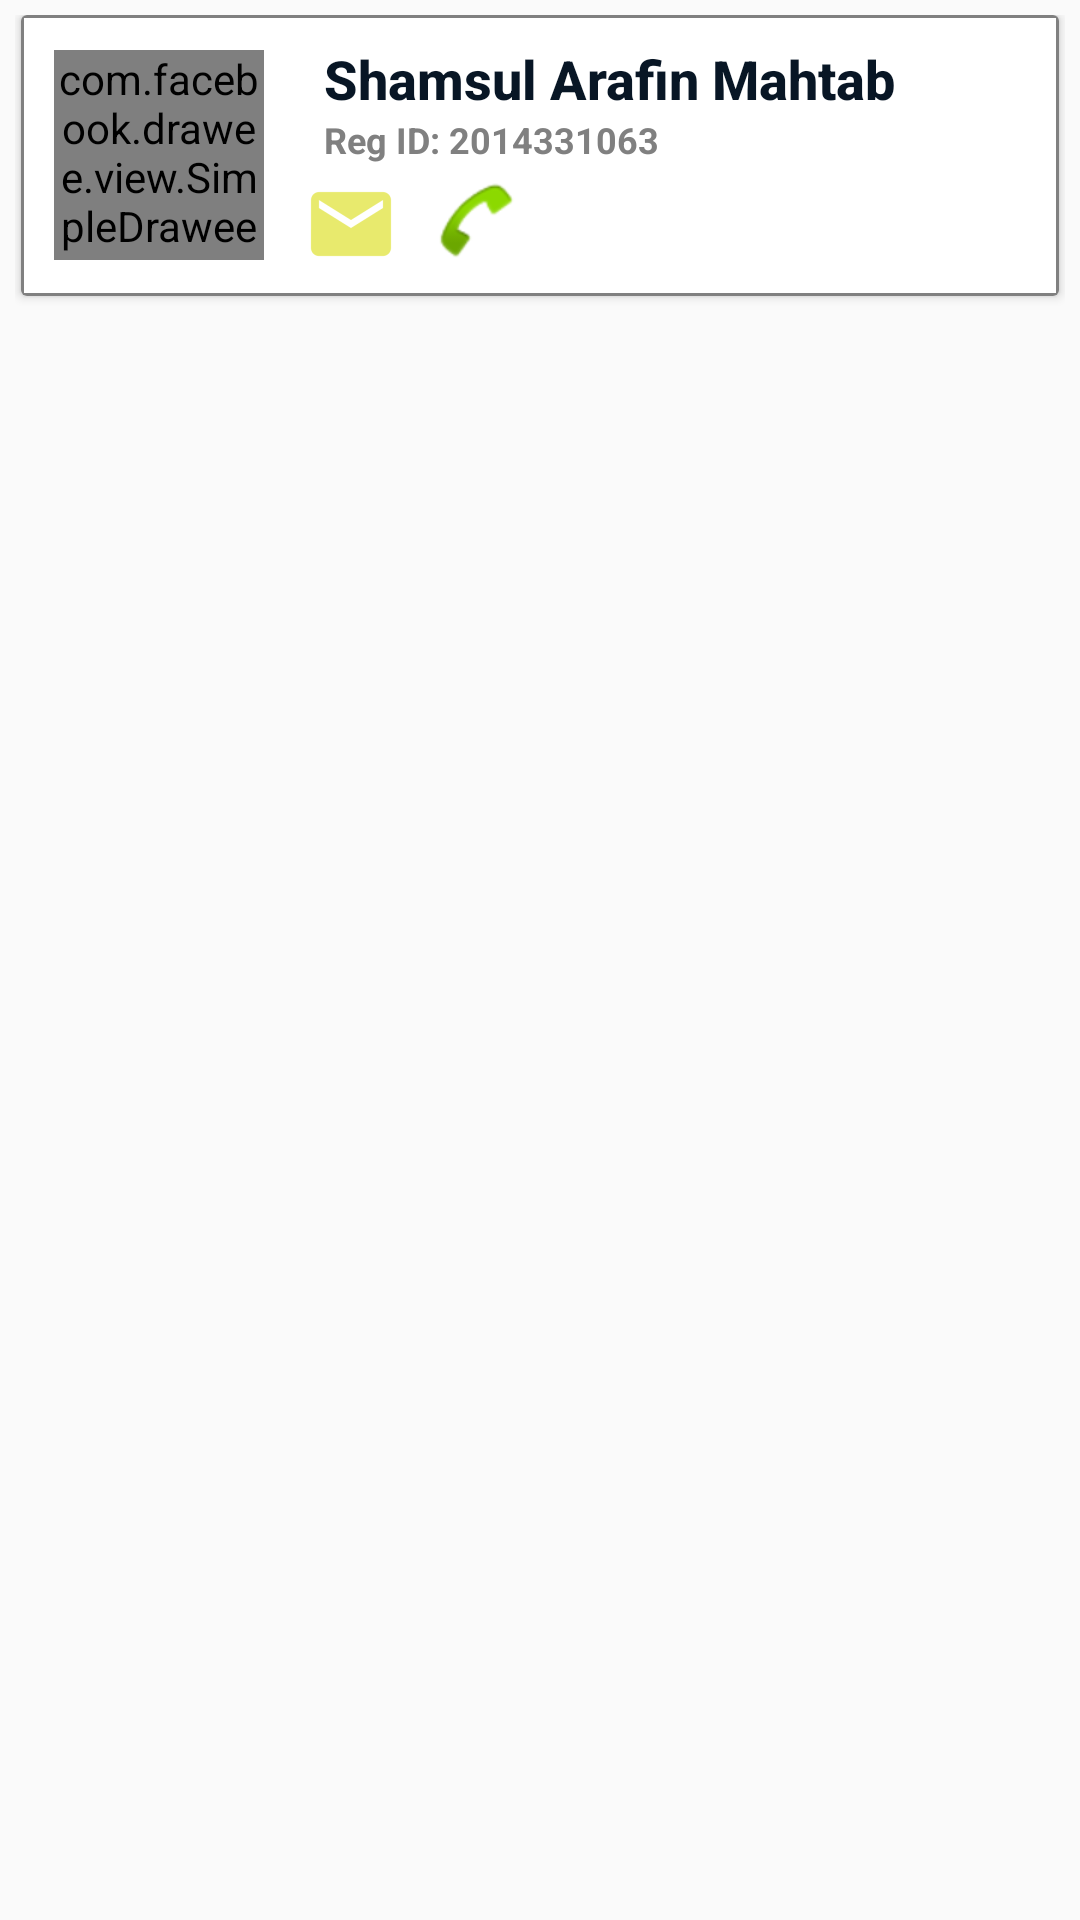

Screen size 1080px×1920px. Icon name, then its center in pixels as [x,y]:
mail: [351,224]
sym action call: [476,220]
